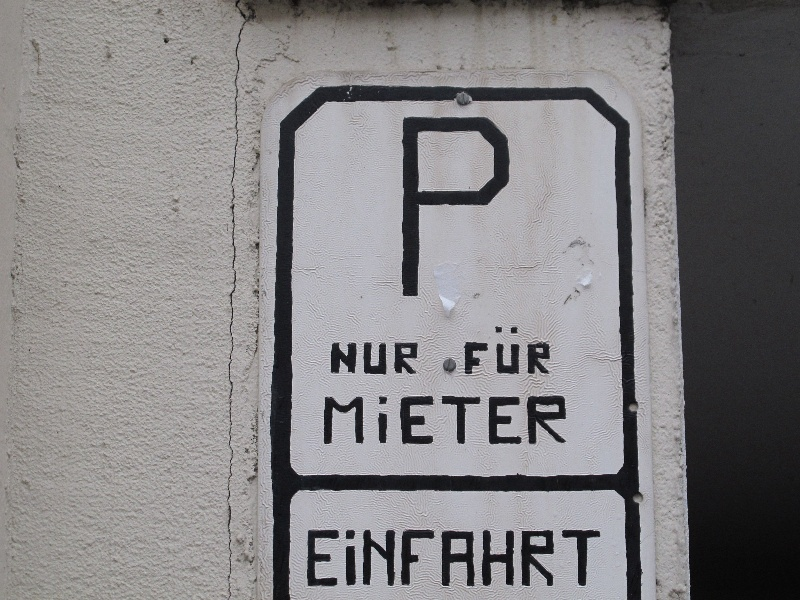text: (417, 117, 432, 297), (433, 117, 448, 297), (449, 117, 464, 297), (465, 117, 480, 297), (481, 117, 496, 297), (497, 117, 512, 297), (402, 117, 416, 297), (449, 530, 464, 588), (465, 530, 480, 588), (481, 530, 496, 588), (497, 530, 512, 588), (513, 530, 528, 588), (529, 530, 544, 588), (545, 530, 560, 588), (561, 530, 576, 588), (577, 530, 592, 588), (321, 530, 336, 588), (337, 530, 352, 588), (353, 530, 368, 588), (369, 530, 384, 588), (385, 530, 400, 588), (401, 530, 416, 588), (417, 530, 432, 588), (337, 393, 352, 446), (353, 393, 368, 446), (369, 393, 384, 446), (385, 393, 400, 446), (401, 393, 416, 446), (417, 393, 432, 446), (433, 393, 448, 446), (449, 393, 464, 446), (465, 393, 480, 446), (481, 393, 496, 446), (497, 393, 512, 446), (513, 393, 528, 446), (529, 393, 544, 446), (545, 393, 560, 446), (307, 530, 320, 588), (465, 326, 480, 375), (481, 326, 496, 375), (497, 326, 512, 375), (513, 326, 528, 375), (529, 326, 544, 375), (593, 530, 604, 588), (324, 393, 336, 446), (337, 342, 352, 377), (353, 342, 368, 377), (369, 342, 384, 377), (385, 342, 400, 377), (401, 342, 416, 377), (441, 530, 448, 588), (561, 393, 568, 446), (433, 530, 439, 588), (545, 326, 551, 375), (331, 342, 336, 377), (417, 342, 418, 377)
